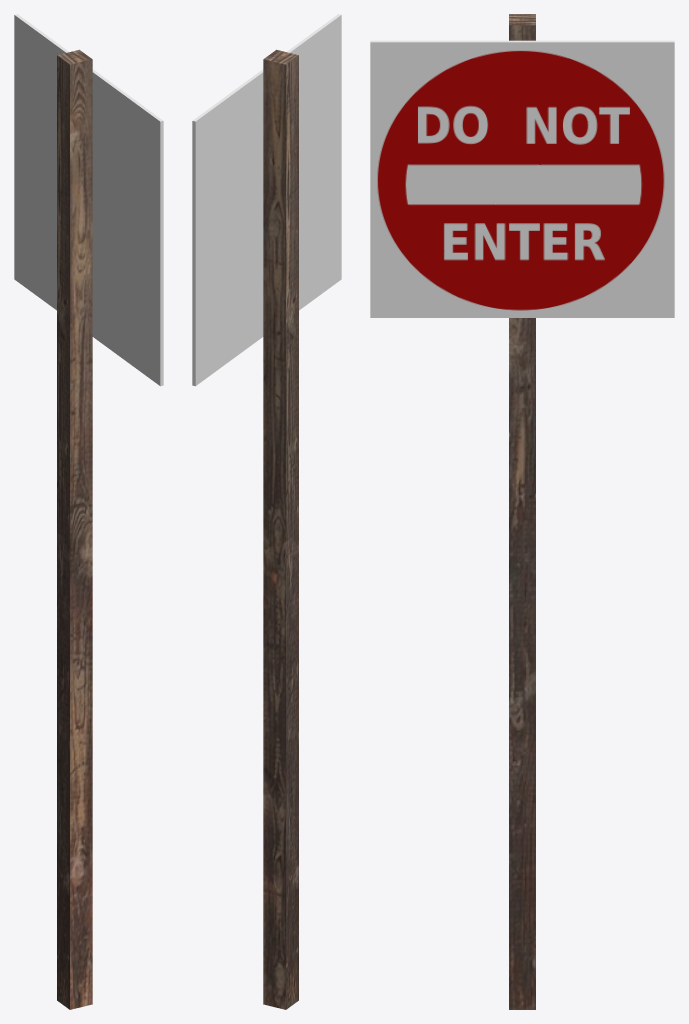
Rendered from YOS_Sign_28.fbx.
The picture shows the model from 3 angles, left to right: view 1: azimuth 30°, elevation 25°; view 2: azimuth 150°, elevation 25°; view 3: azimuth 270°, elevation 25°; orthographic projection. The views are drawn at different scales.
Visible parts, largest first — view 1: WoodPost_2, Plane_1; view 2: WoodPost_2, Plane_1; view 3: Plane_1, WoodPost_2.
Boxes of the visible parts, box(x1,y1,x2,y2) form: WoodPost_2: box(57, 49, 92, 1009); Plane_1: box(14, 14, 163, 386); WoodPost_2: box(263, 49, 298, 1009); Plane_1: box(192, 14, 341, 386); Plane_1: box(370, 40, 674, 317); WoodPost_2: box(509, 14, 535, 1009).
Bounding box in the file's own units: 6.02 × 200 × 56.
